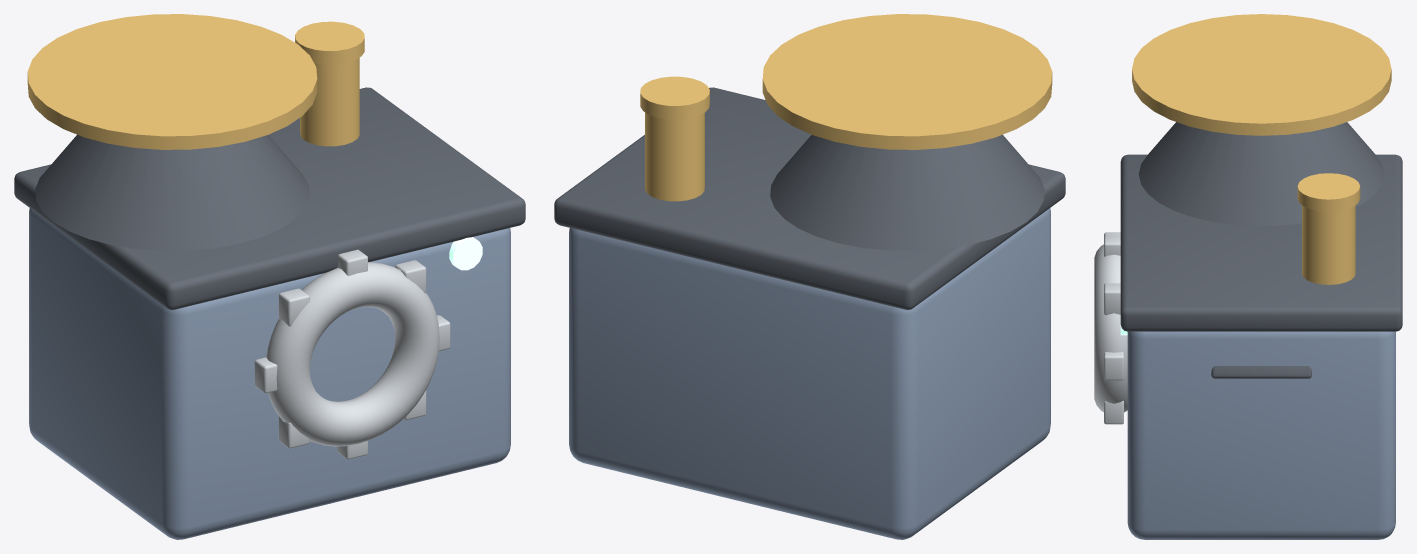
File: factory.glb
3 views of the same model, side by side, from view 1: azimuth 30°, elevation 25°; view 2: azimuth 150°, elevation 25°; view 3: azimuth 270°, elevation 25° (orthographic). The views are drawn at different scales.
Parts seen in each view (by area): view 1: factory; view 2: factory; view 3: factory.
Boxes of the visible parts, box(x1,y1,x2,y2) form: factory: box(14, 14, 525, 539); factory: box(554, 14, 1065, 539); factory: box(1094, 14, 1402, 539).
Size of the model in its own units: 1.86 by 1.77 by 1.38.
